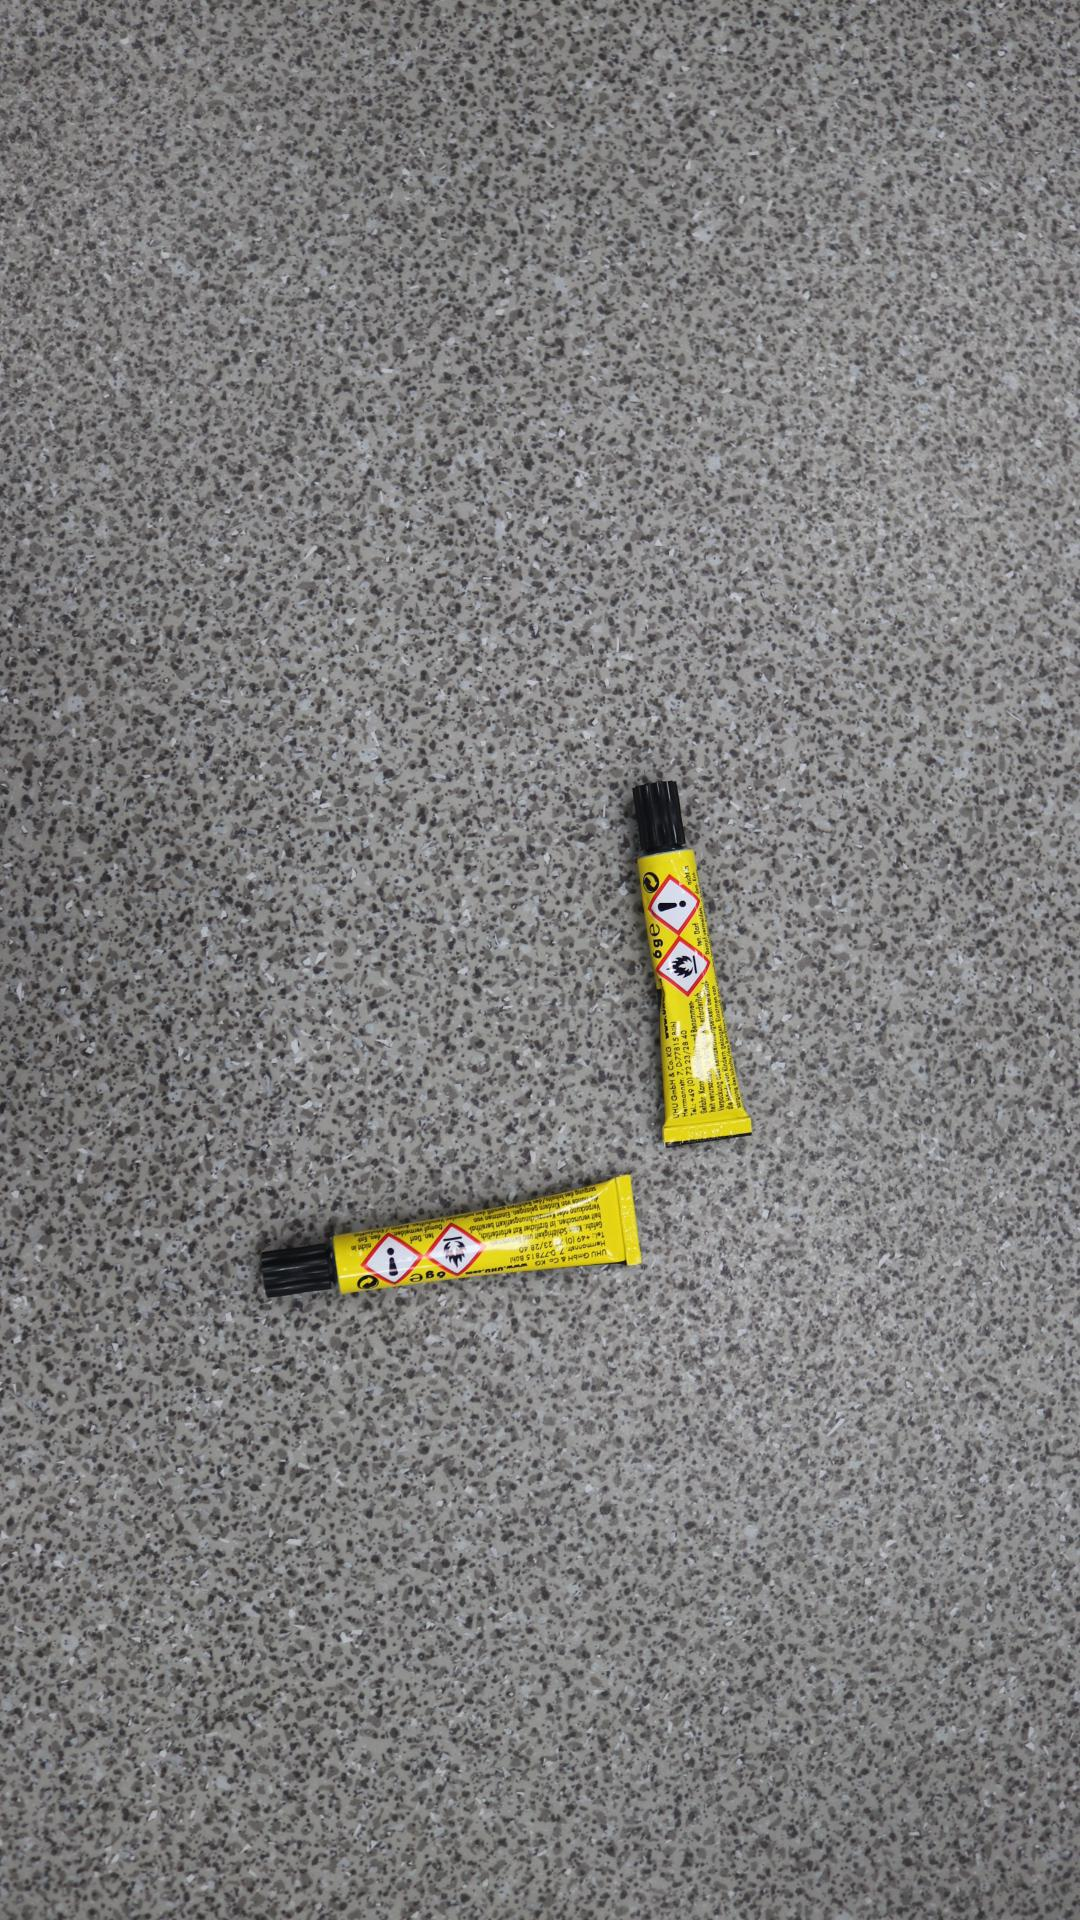Head: (657, 812, 664, 819), (292, 1268, 297, 1273)
Tail: (625, 1219, 632, 1226), (704, 1127, 710, 1134)
Tube: (259, 1175, 643, 1299), (631, 780, 754, 1147)
